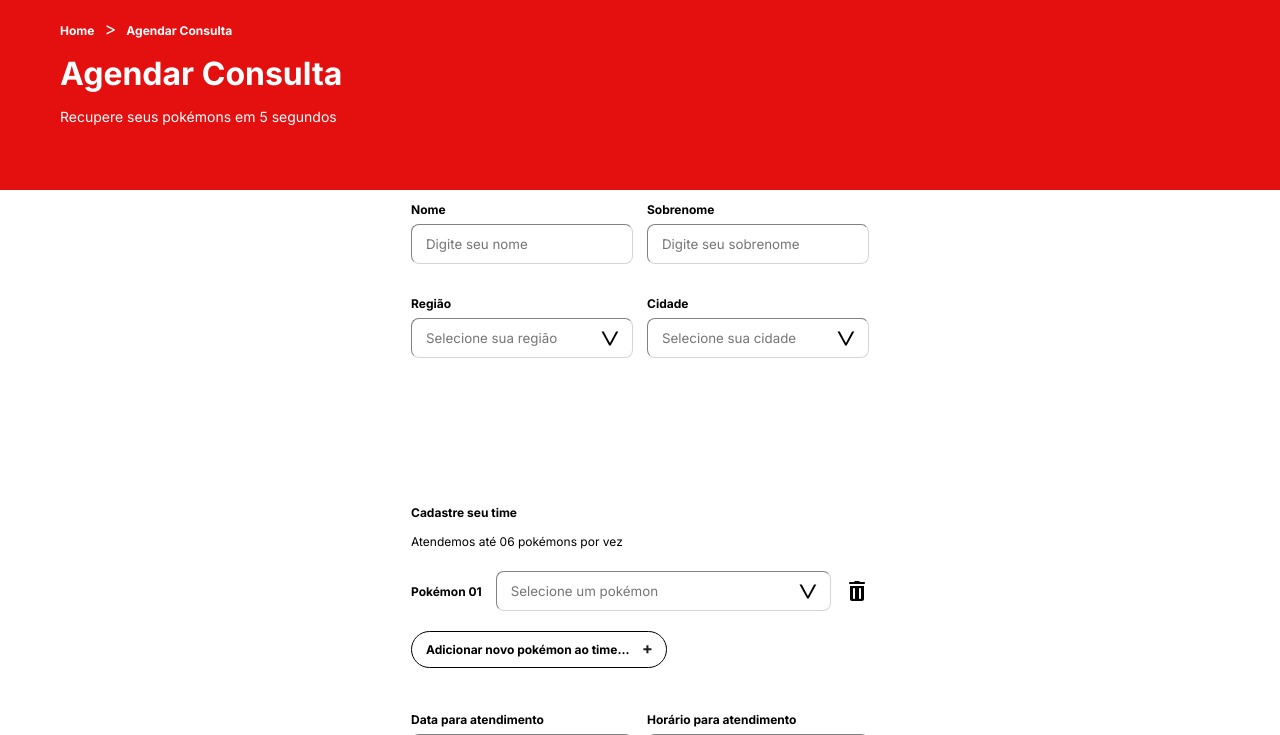
it: Scheduling component › should exclude pokémon of list
Expected: the text "Pokémon 01" is shown, [411,582,482,601]
Click the button "Adicionar novo pokémon ao time..." at (539, 650), box [411,631,668,668]
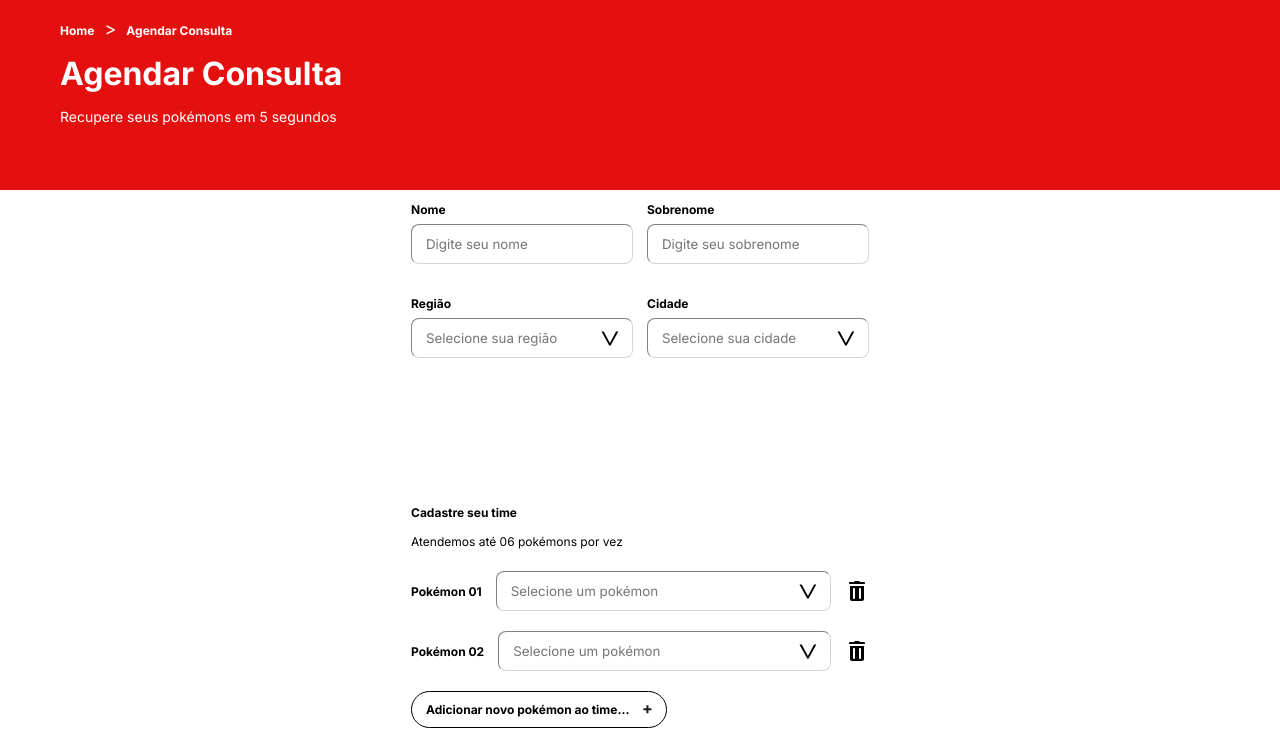
Result: the text "Pokémon 02" is shown at [411,642,484,661]
Click the 1st picture named "trash" at (857, 591), box [845,579,869,603]
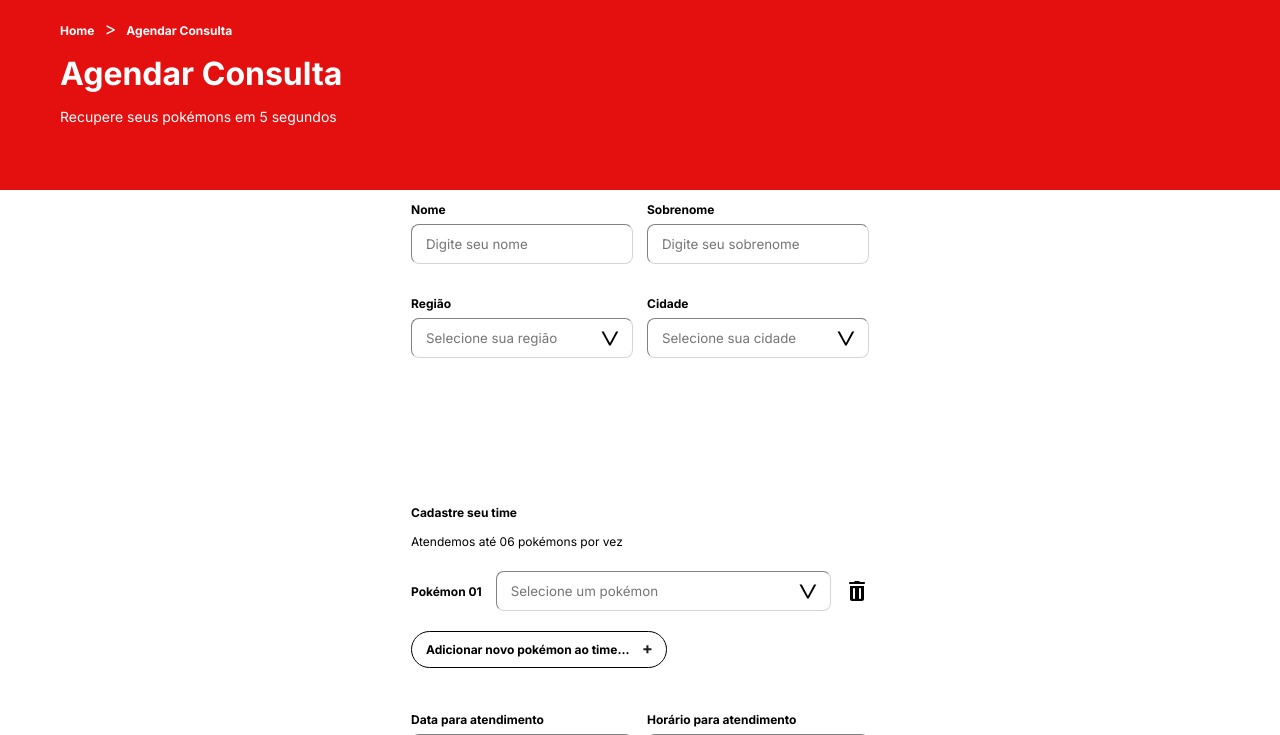
Result: the text "Pokémon 02" is gone
